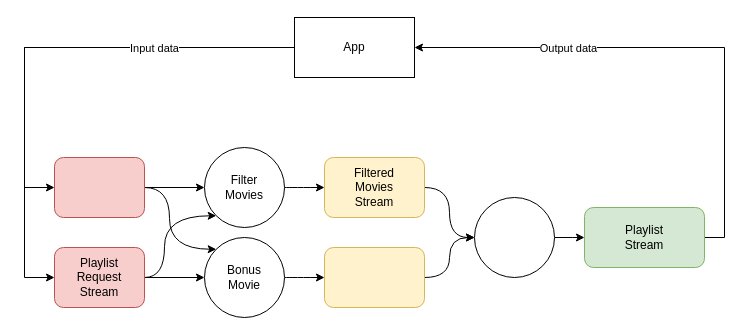
Image size: 750x335. Some labels were removed from this diagram. The box of each missing label's shape, as (x1, y1, x2, y2) in pixels:
Bonus Movies Stream: (324, 246, 424, 308)
Build Playlist: (474, 196, 554, 278)
Movie Stream: (54, 156, 144, 218)
